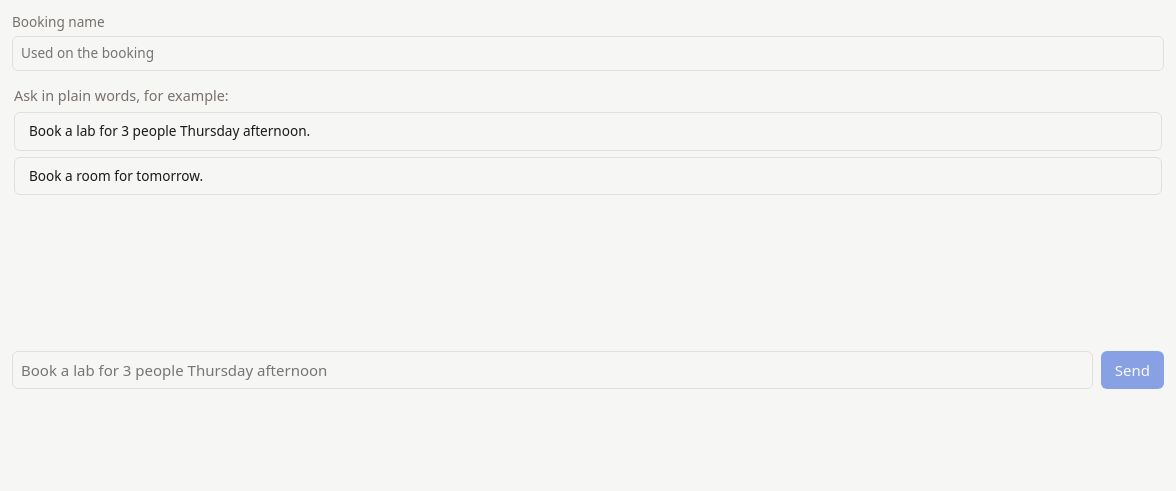
Test: Chat › Cancel discards the proposal without saving
In the field named "Message": {"x": 552, "y": 370} [12,351,1093,389], type "Book a lab for 3 people Thursday afternoon."
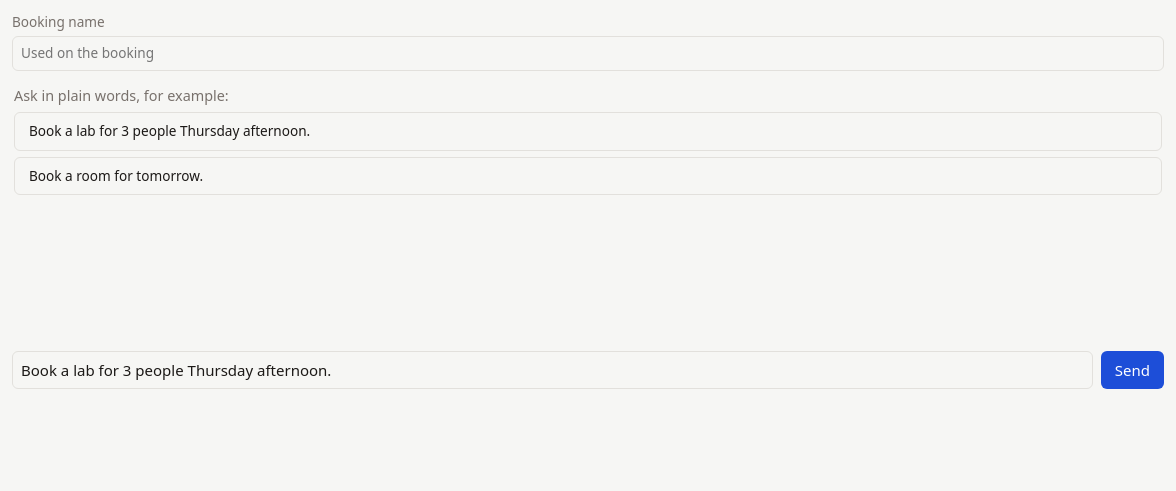
Click the button "Send": {"x": 1132, "y": 370} [1101,351,1164,389]
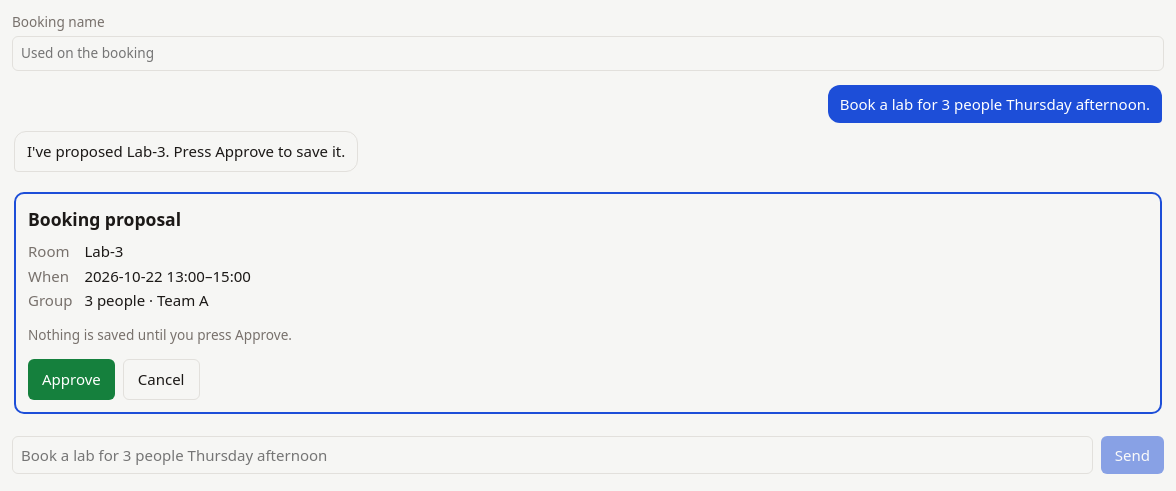
Click the button "Cancel": {"x": 161, "y": 379} [123,359,200,400]
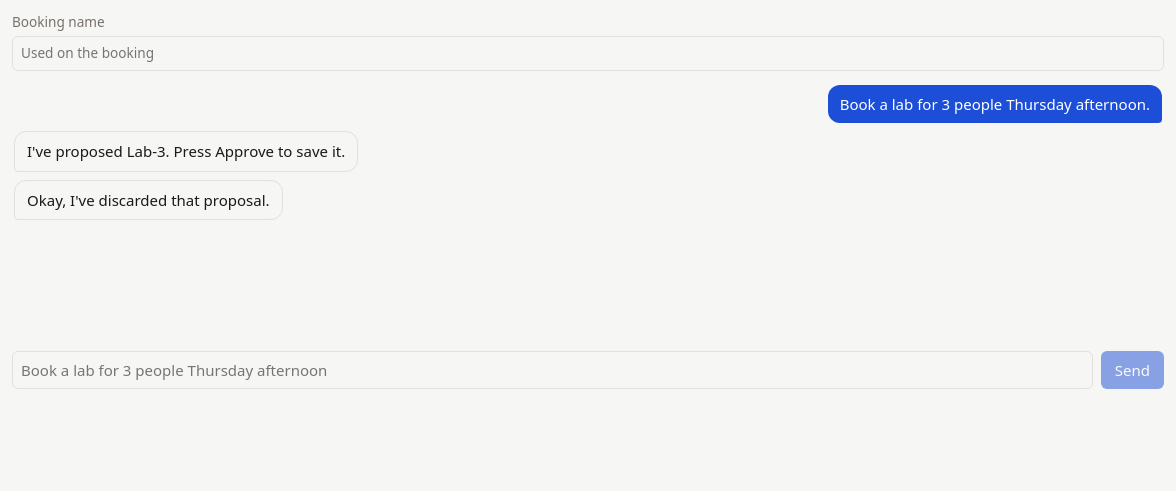
Result: the heading "Booking proposal" is gone
